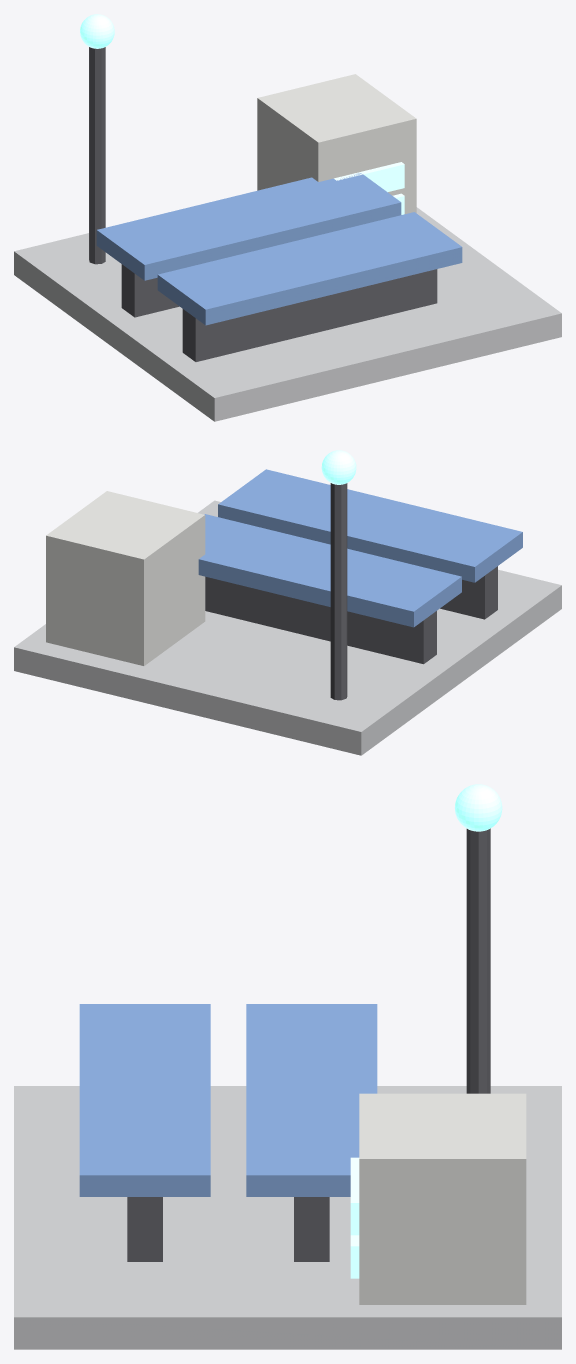
File: solar_array.glb
3 renders of one model, top to bottom at view 1: azimuth 30°, elevation 25°; view 2: azimuth 150°, elevation 25°; view 3: azimuth 270°, elevation 25°, orthographic. The views are drawn at different scales.
Visible parts, largest first — view 1: pad, panel_0, panel_1, inverter, mount_0, relay_mast, mount_1, Beacon, charge_bar_a; view 2: pad, inverter, panel_0, panel_1, mount_1, relay_mast, mount_0, Beacon; view 3: pad, inverter, panel_0, panel_1, relay_mast, mount_0, mount_1, Beacon, charge_bar_a.
Boxes of the visible parts, bbox=[...] form: pad: bbox=[14, 207, 561, 421]; panel_0: bbox=[157, 212, 462, 325]; panel_1: bbox=[96, 173, 401, 280]; inverter: bbox=[257, 74, 416, 213]; mount_0: bbox=[182, 269, 437, 361]; relay_mast: bbox=[89, 47, 105, 264]; mount_1: bbox=[121, 264, 179, 317]; Beacon: bbox=[80, 14, 114, 48]; charge_bar_a: bbox=[334, 162, 404, 192]; pad: bbox=[14, 500, 561, 755]; inverter: bbox=[46, 491, 205, 665]; panel_0: bbox=[218, 469, 522, 582]; panel_1: bbox=[198, 514, 461, 627]; mount_1: bbox=[205, 576, 436, 664]; relay_mast: bbox=[330, 483, 347, 700]; mount_0: bbox=[440, 566, 497, 619]; Beacon: bbox=[321, 450, 356, 484]; pad: bbox=[14, 1086, 561, 1349]; inverter: bbox=[359, 1093, 526, 1304]; panel_0: bbox=[79, 1004, 210, 1196]; panel_1: bbox=[246, 1004, 377, 1196]; relay_mast: bbox=[466, 828, 490, 1093]; mount_0: bbox=[127, 1197, 162, 1261]; mount_1: bbox=[294, 1197, 329, 1261]; Beacon: bbox=[455, 784, 502, 831]; charge_bar_a: bbox=[350, 1157, 359, 1235].
Bounding box in the file's own units: 0.92 × 0.68 × 0.92.
